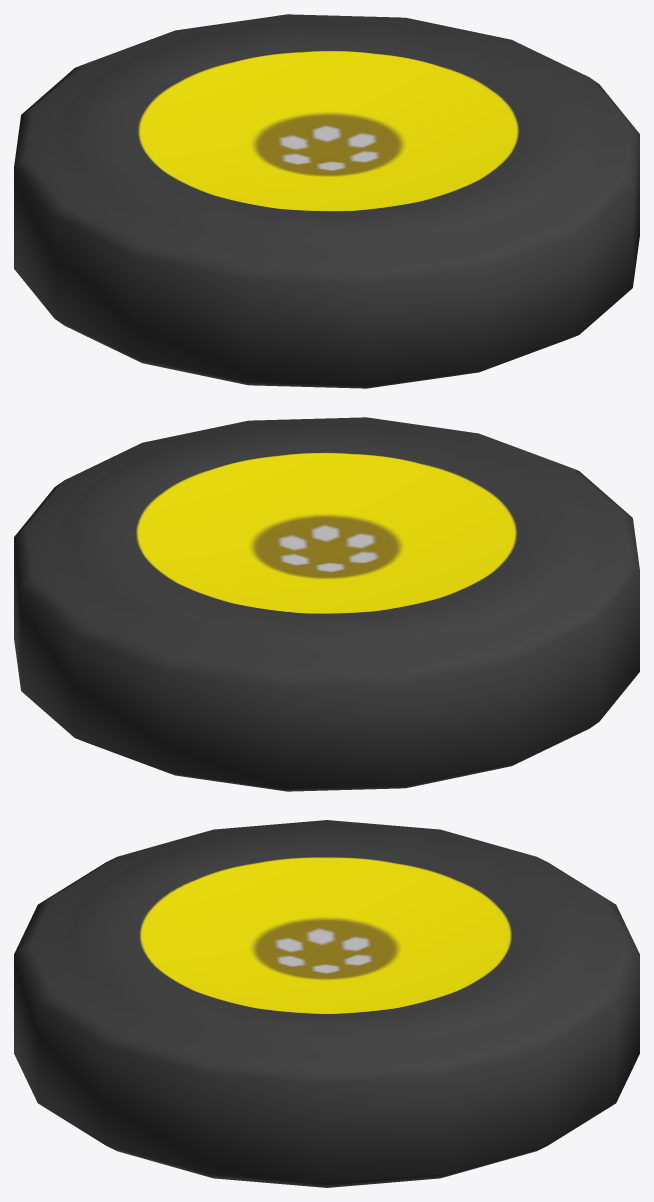
File: RuedaLow.fbx
3 renders of one model, top to bottom at view 1: azimuth 30°, elevation 25°; view 2: azimuth 150°, elevation 25°; view 3: azimuth 270°, elevation 25°, orthographic. The views are drawn at different scales.
Visible parts, largest first — view 1: Circle.002; view 2: Circle.002; view 3: Circle.002.
Boxes of the visible parts, left/top/right/bottom form: Circle.002: left=14, top=14, right=639, bottom=388; Circle.002: left=14, top=417, right=639, bottom=791; Circle.002: left=14, top=820, right=639, bottom=1187.
Size of the model in its own units: 20704 by 5212 by 21075.
1 material, 1 textured.
